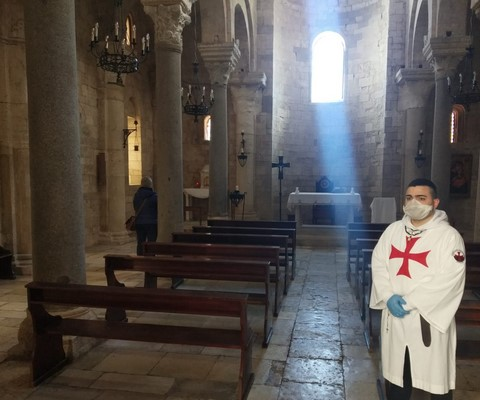face_with_mask: (403, 178, 439, 222)
